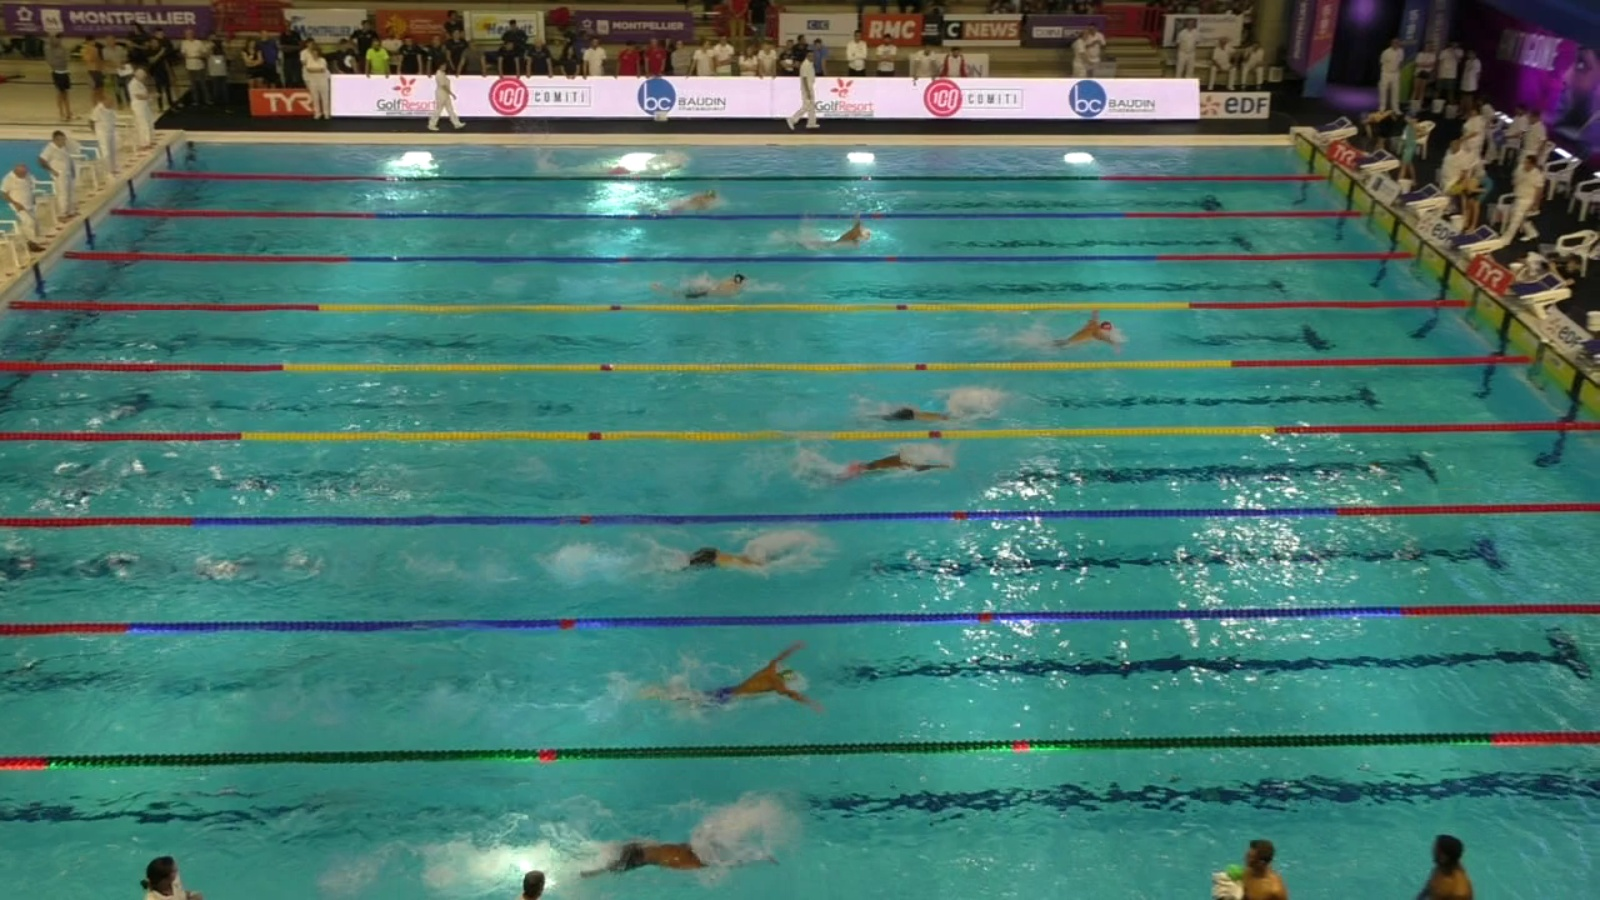swimmerwdd: (630, 637, 834, 716), (571, 829, 786, 873), (789, 441, 943, 496), (638, 537, 798, 584), (1005, 307, 1129, 362), (763, 219, 885, 255), (642, 269, 754, 303), (638, 185, 723, 223), (870, 404, 973, 432), (578, 156, 682, 180)
